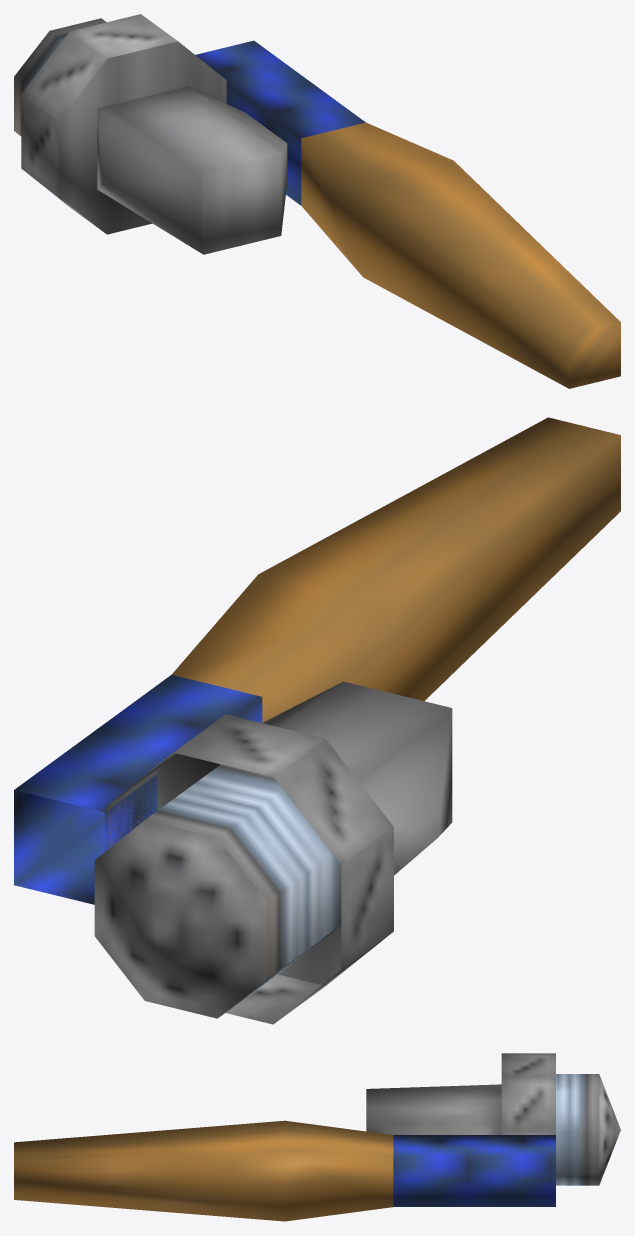
Rendered from batch_0088.obj.
3 renders of one model, top to bottom at view 1: azimuth 30°, elevation 25°; view 2: azimuth 150°, elevation 25°; view 3: azimuth 270°, elevation 25°, orthographic. The views are drawn at different scales.
Parts seen in each view (by area): view 1: batch_0088; view 2: batch_0088; view 3: batch_0088.
Part boxes in pixels (bbox=[...]): batch_0088: bbox=[14, 14, 620, 388]; batch_0088: bbox=[14, 417, 620, 1024]; batch_0088: bbox=[14, 1053, 620, 1221].
Bounding box in the file's own units: 19 × 13 × 56.
1 material, 1 textured.
